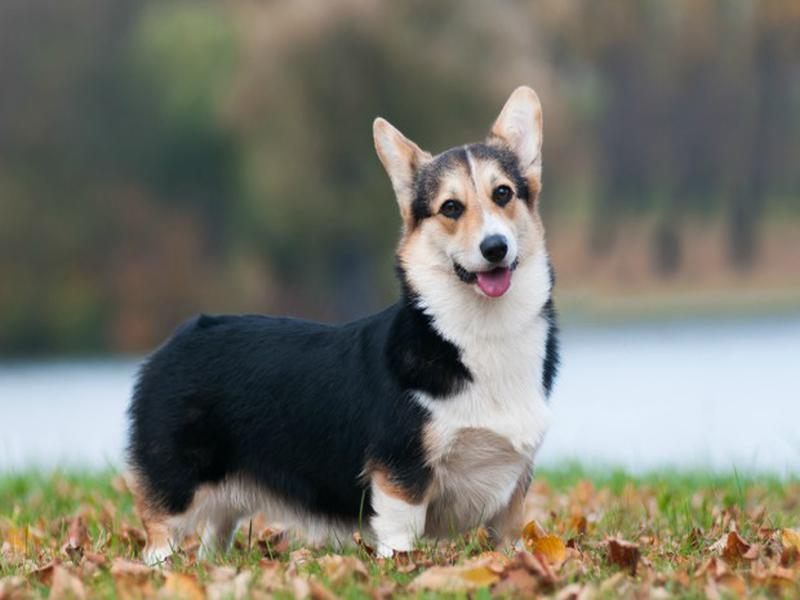corgi: (370, 85, 549, 302)
